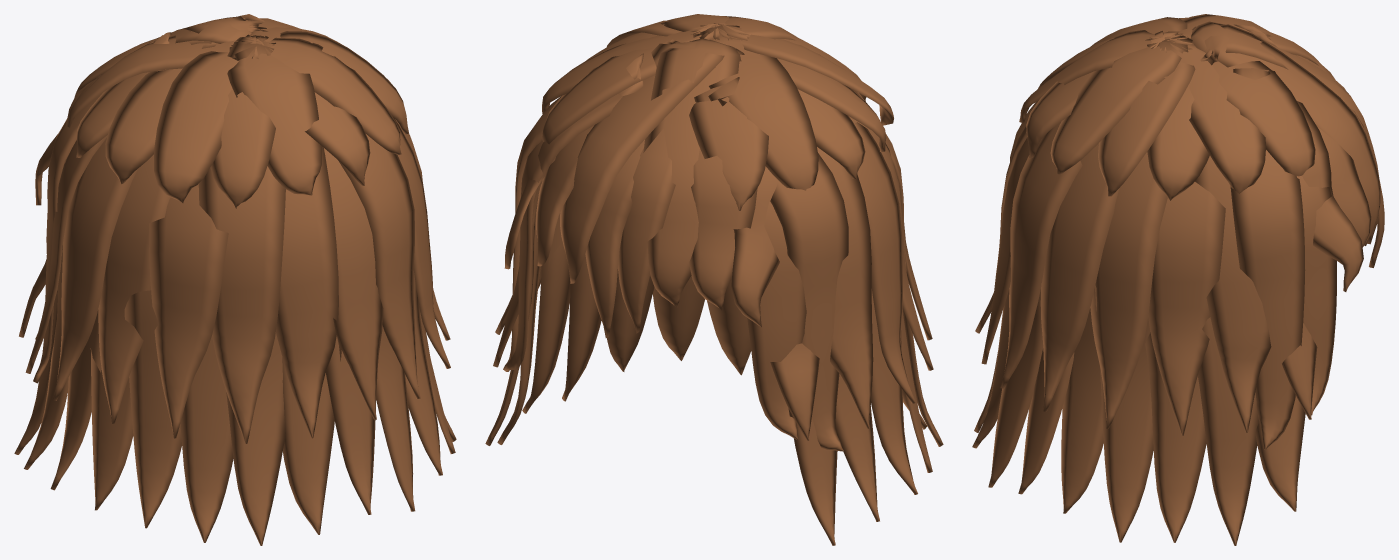
File: valeria_hair.fbx
3 renders of one model, left to right at view 1: azimuth 30°, elevation 25°; view 2: azimuth 150°, elevation 25°; view 3: azimuth 270°, elevation 25°, orthographic. The views are drawn at different scales.
Visible parts, largest first — view 1: ValeriaHair; view 2: ValeriaHair; view 3: ValeriaHair.
Boxes of the visible parts, x1,y1,x2,y2 form: ValeriaHair: [14, 14, 456, 545]; ValeriaHair: [485, 14, 943, 545]; ValeriaHair: [972, 14, 1384, 545].
Bounding box in the file's own units: 193 × 204 × 180.
